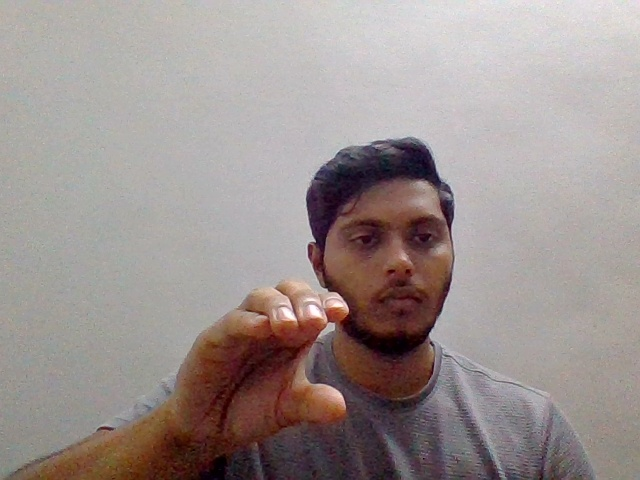No: (168, 269, 360, 467)
